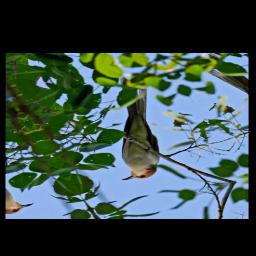Cuckoo: (58, 72, 204, 185)
